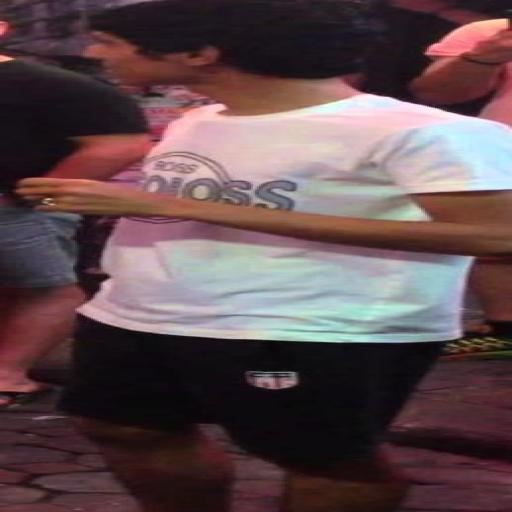person: (18, 0, 511, 511), (0, 56, 150, 408), (412, 18, 511, 124)
